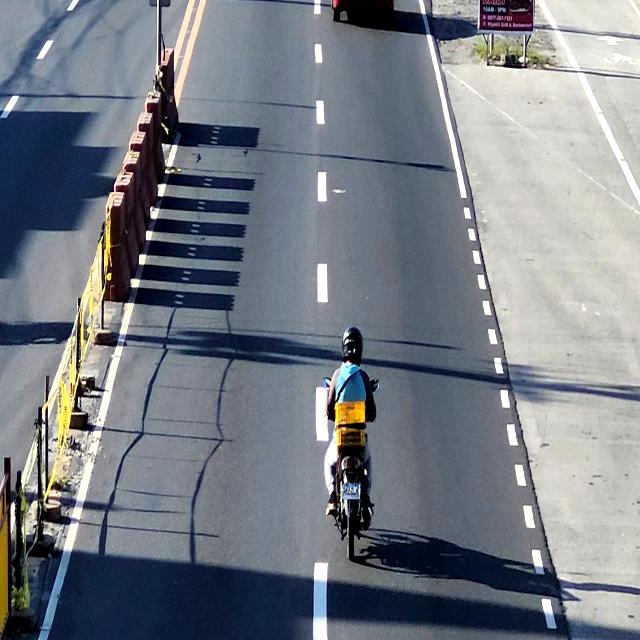License-Plate: (338, 481, 361, 498)
Motorcycle: (324, 325, 382, 560)
